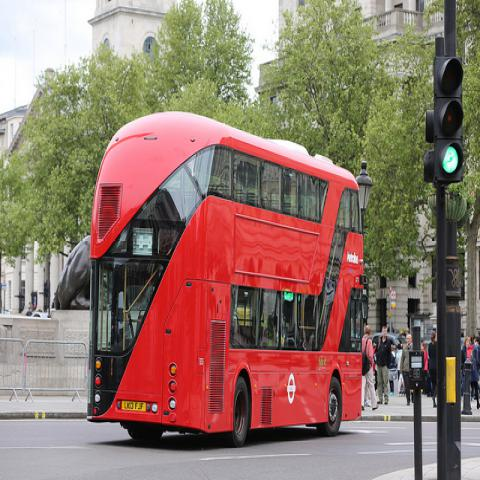bus: (84, 110, 372, 453)
